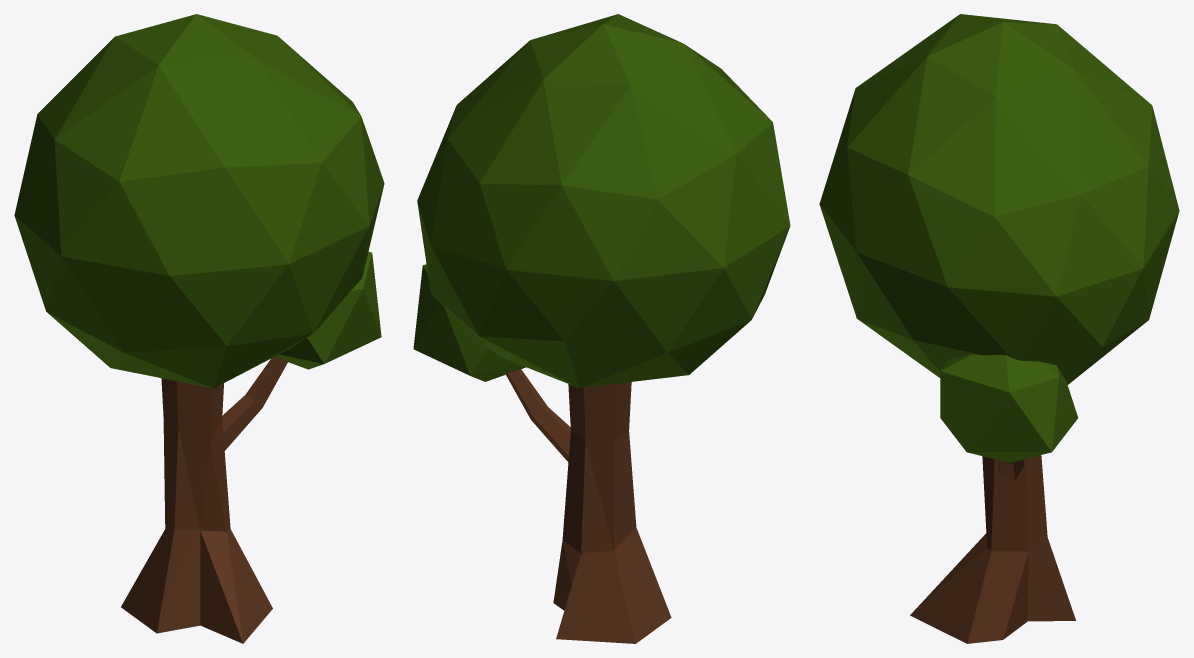
File: tree.glb
3 renders of one model, left to right at view 1: azimuth 30°, elevation 25°; view 2: azimuth 150°, elevation 25°; view 3: azimuth 270°, elevation 25°, orthographic.
Parts seen in each view (by area): view 1: Icosphere; view 2: Icosphere; view 3: Icosphere.
Boxes of the visible parts, bbox=[...] form: Icosphere: bbox=[14, 14, 384, 643]; Icosphere: bbox=[413, 14, 790, 643]; Icosphere: bbox=[819, 14, 1179, 643].
Bounding box in the file's own units: 1.75 × 2.93 × 1.61.
1 material, 1 textured.
